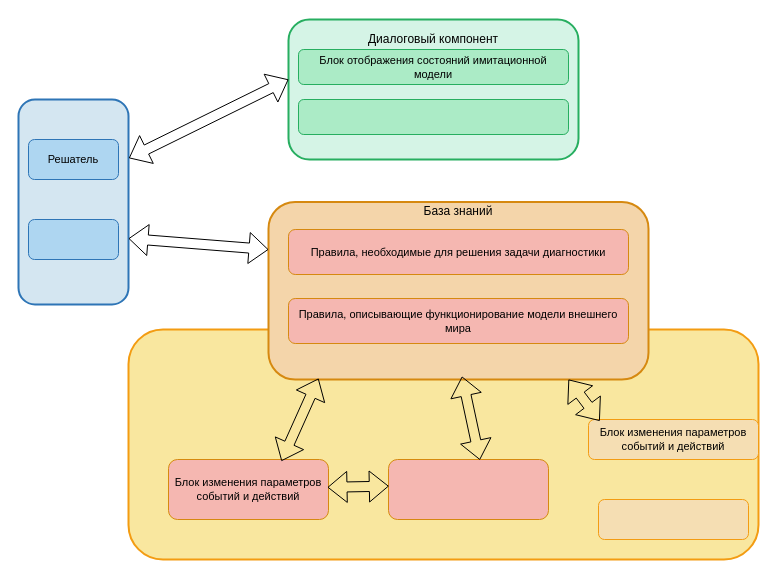
This 776x577 diagram has some shape labels left out. The centre of each missing label's shape, as x and y in pixels:
Блок отображения рекомендаций: pixel 433 116
Подсистема моделирования внешнего мира: pixel 673 519
Процессы и действия в имитационной модели внешнего мира: pixel 468 489
Рабочая память: pixel 73 239
